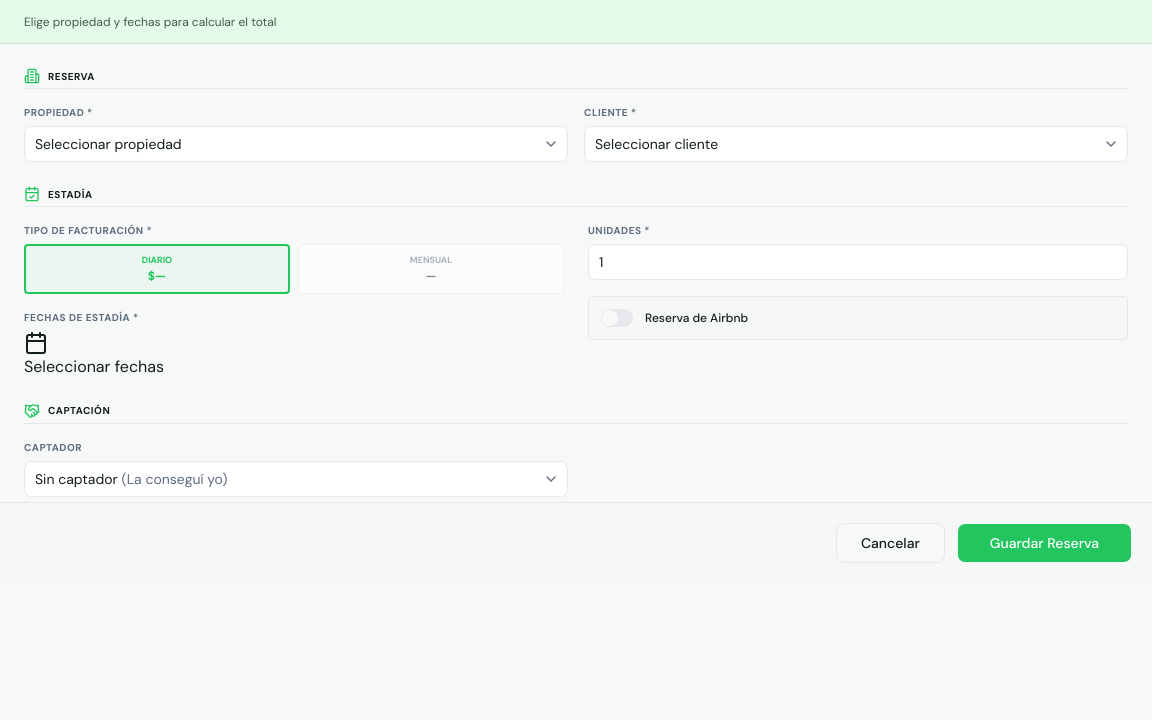
ReservationForm — Captación › lista los captadores activos con su porcentaje por defecto
Check: the heading "Captación" is shown, box x1=48 y1=403 x2=110 y2=418
Click the button "Sin captador (La conseguí yo)". click: (76, 478)
box: x1=24 y1=460 x2=568 y2=496
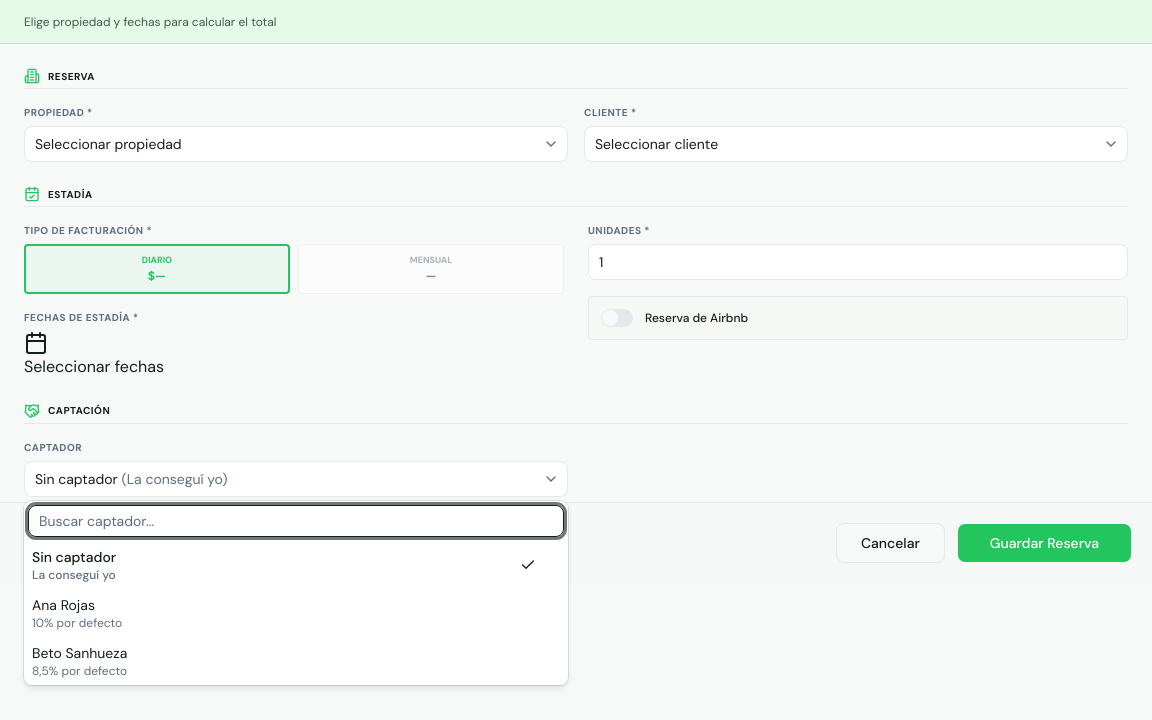
Check: the text "Ana Rojas" is shown, box x1=32 y1=596 x2=95 y2=614
Check: the text "Beto Sanhueza" is shown, box x1=32 y1=644 x2=127 y2=662
Check: the text "10% por defecto" is shown, box x1=32 y1=615 x2=122 y2=631
